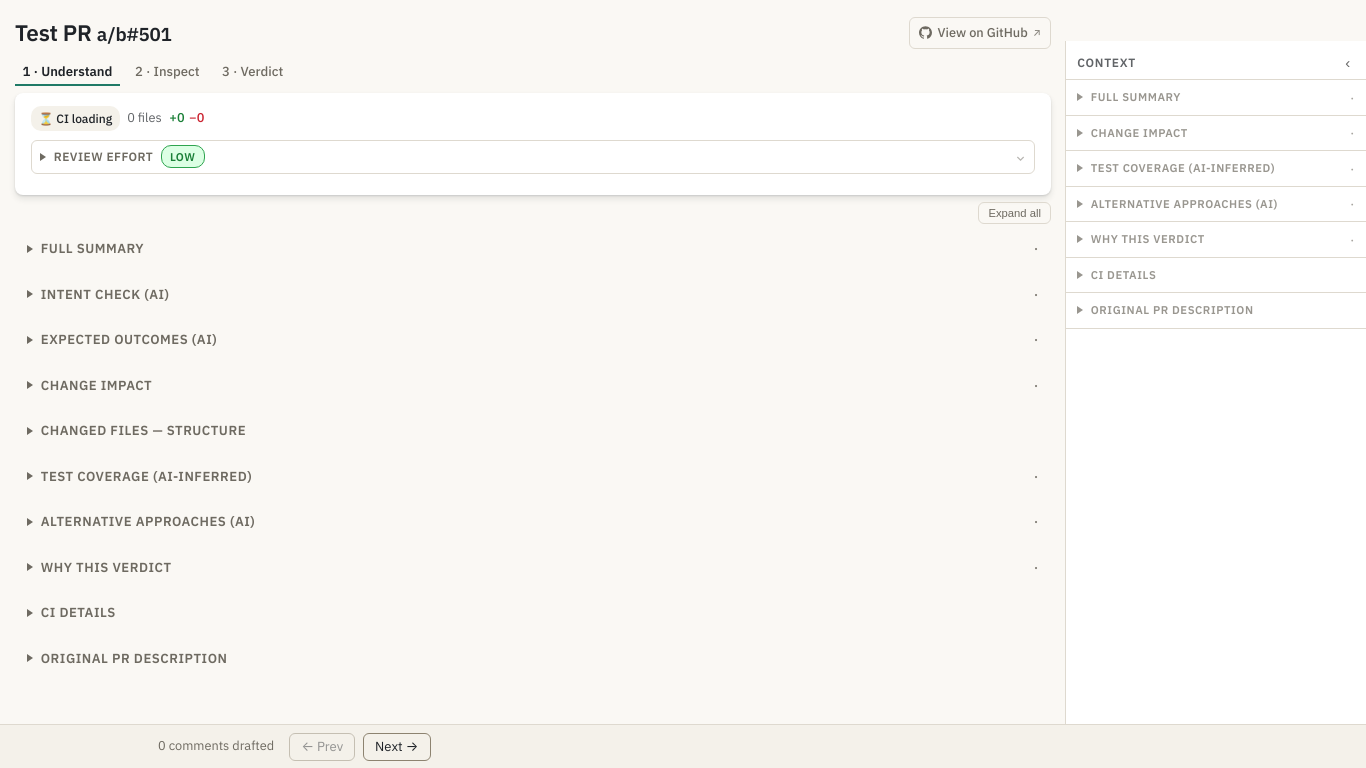
Since-last-visit — toggle fetch + swap + exit › clicking "Show full diff" exits compare mode
The width and height of the screenshot is (1366, 768).
Expected: the message "0 comments drafted" is shown, 158,736 -> 274,757
Click the button with aria-label "next step": coordinates (397, 746) 363,732 -> 430,760
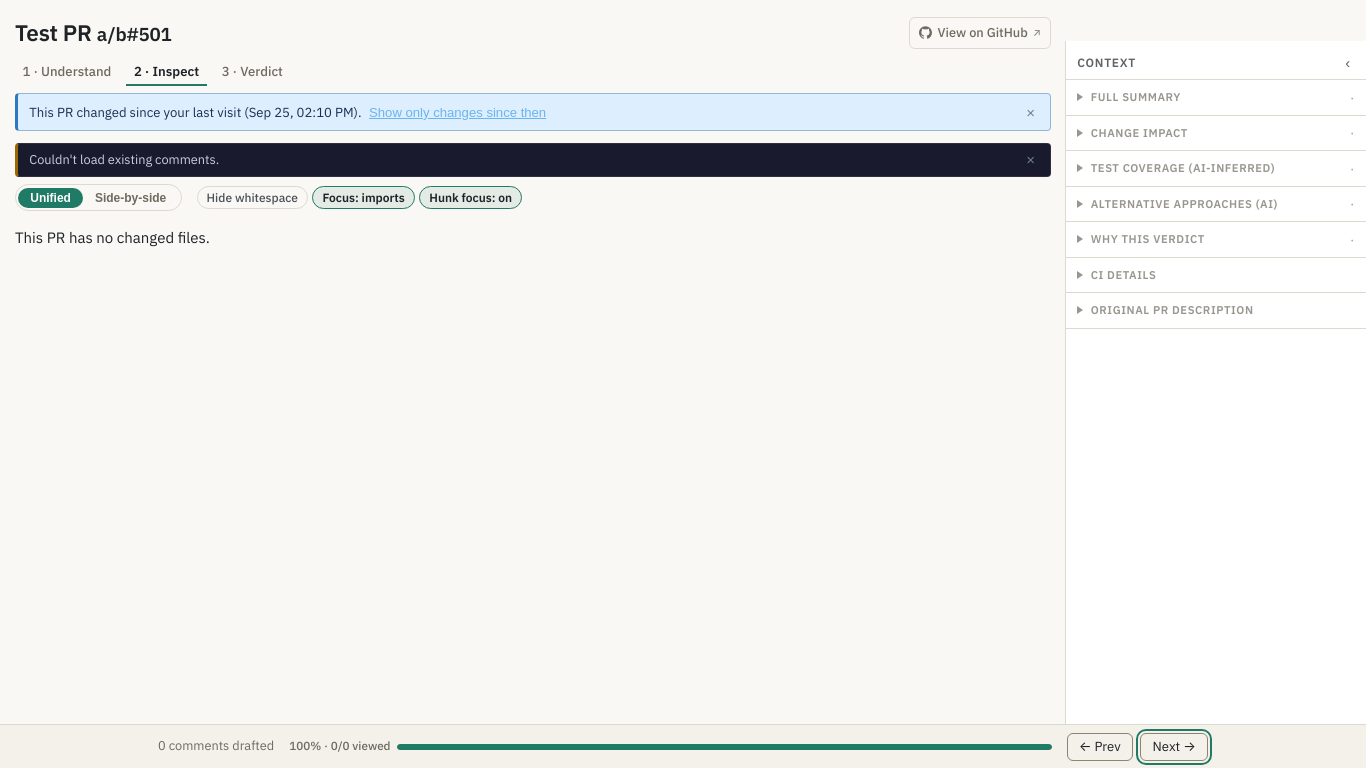
Result: the text "changed since your last visit" is shown at 29,104 -> 362,121
Click the button "Show only changes since then": coordinates (458, 112) 369,105 -> 546,120
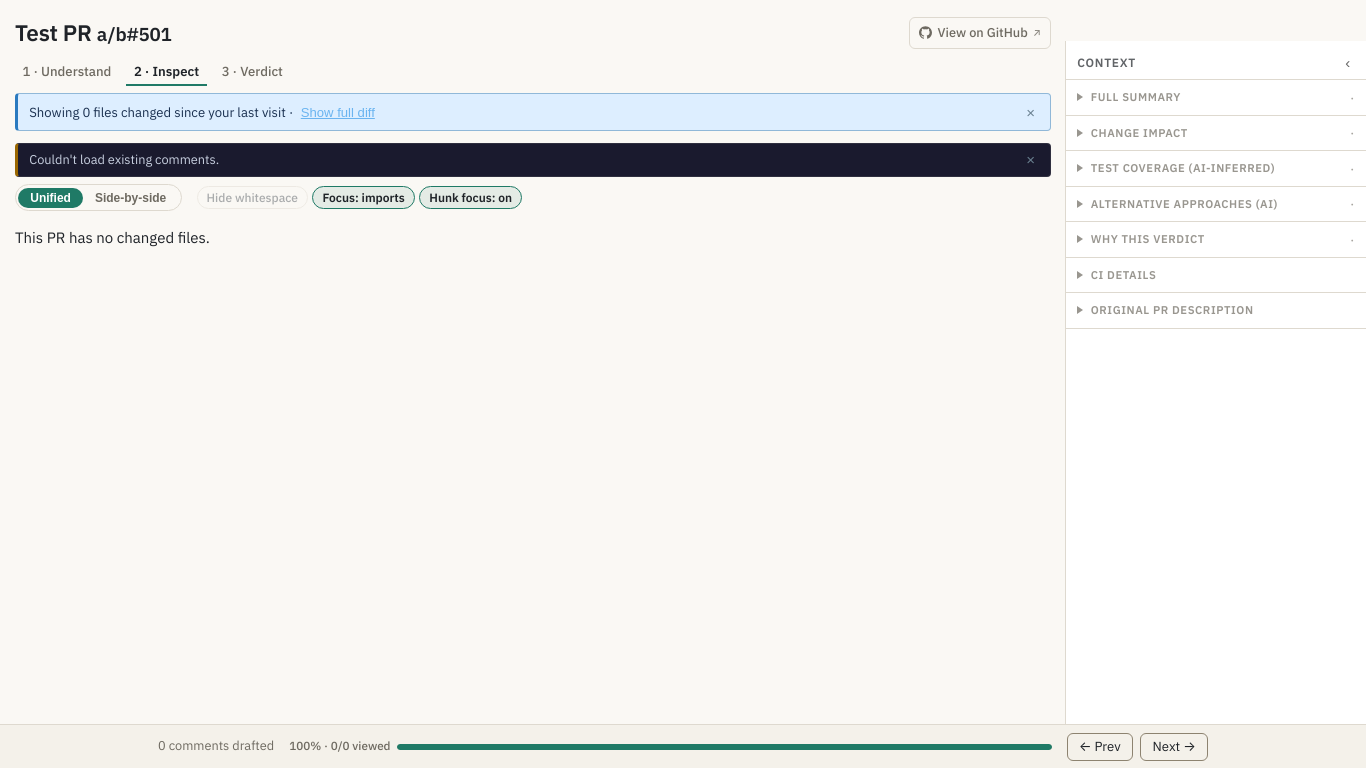
Result: the button "Show full diff" is shown
Click the button "Show full diff": coordinates (338, 112) 301,105 -> 375,120
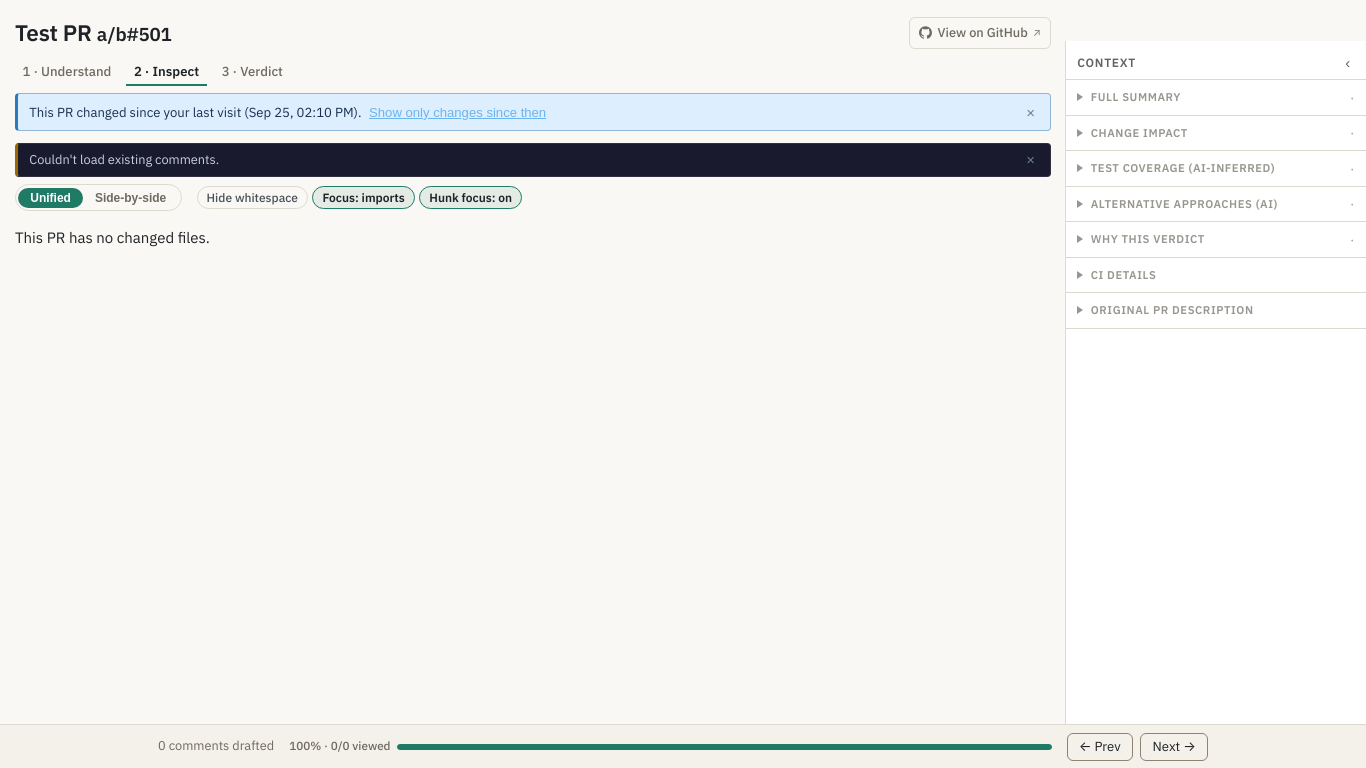
Result: the text "changed since your last visit" is shown at 29,104 -> 362,121
Result: the button "Show only changes since then" is shown at 369,105 -> 546,120
